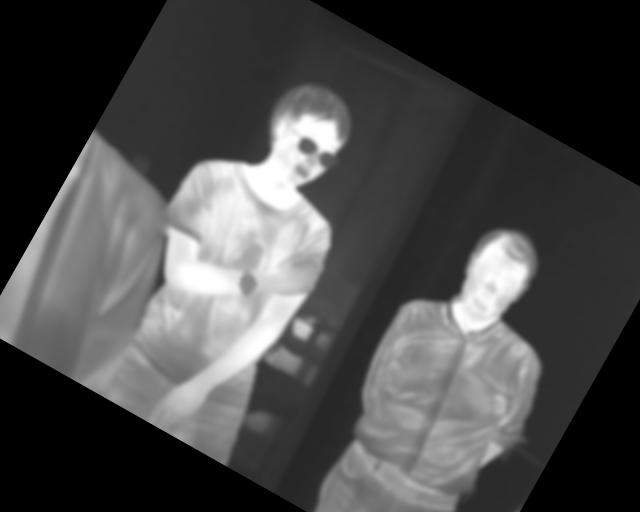face: (244, 69, 366, 200), (443, 214, 553, 336)
